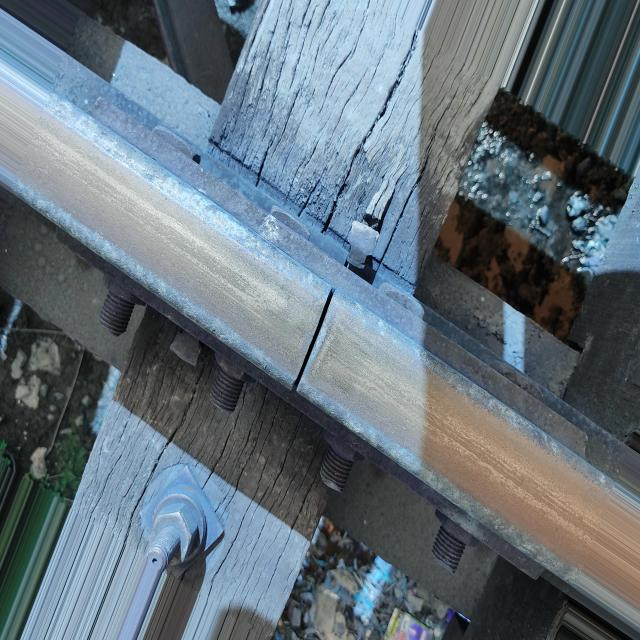crack: (292, 276, 342, 409)
